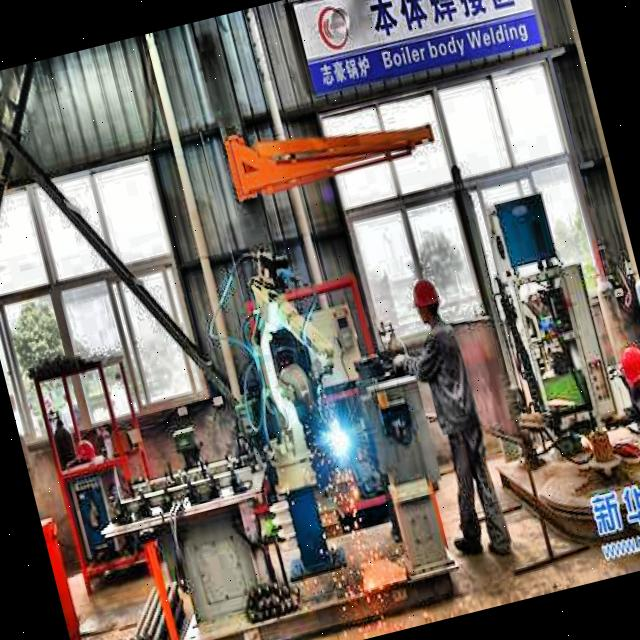helmet: (403, 268, 448, 332), (611, 333, 640, 409)
